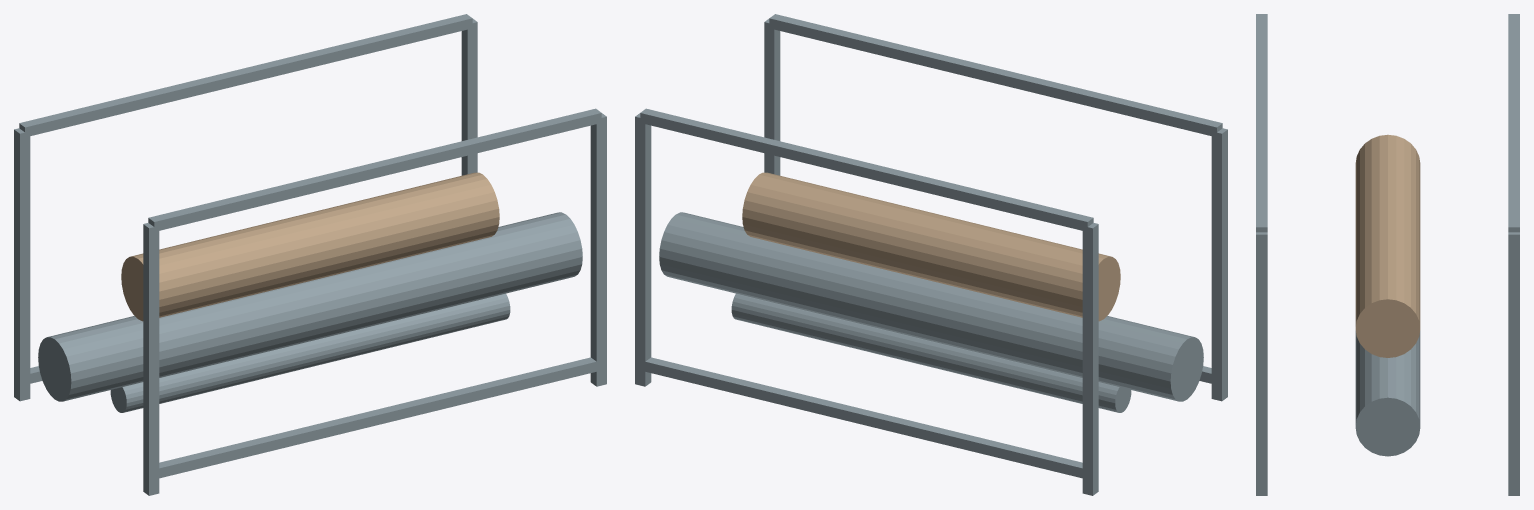
The model's file is finisher.glb.
3 renders of one model, left to right at view 1: azimuth 30°, elevation 25°; view 2: azimuth 150°, elevation 25°; view 3: azimuth 270°, elevation 25°, orthographic. The views are drawn at different scales.
Visible parts, largest first — view 1: roller_1, roller_3, roller_0, roller_4, roller_2, rotor, cross_-1.75_4, cross_1.75_4, cross_1.75_0.3, post_-3.5_-1.75, post_-3.5_1.75, post_3.5_1.75 (+1 smaller); view 2: roller_1, roller_3, roller_0, roller_4, roller_2, rotor, cross_1.75_4, cross_-1.75_4, cross_-1.75_0.3, post_-3.5_-1.75, post_-3.5_1.75, post_3.5_-1.75 (+1 smaller); view 3: roller_3, roller_4, roller_1, post_3.5_-1.75, post_3.5_1.75, cross_-1.75_4, cross_1.75_4.
Part boxes in pixels (box(x1,y1,x2,y2)): roller_1: box(121, 213, 333, 321); roller_3: box(296, 172, 499, 276); roller_0: box(38, 302, 250, 401); roller_4: box(397, 212, 582, 319); roller_2: box(224, 258, 416, 359); rotor: box(110, 293, 510, 412); cross_-1.75_4: box(19, 14, 472, 136); cross_1.75_4: box(148, 108, 601, 230); cross_1.75_0.3: box(154, 357, 596, 479); post_-3.5_-1.75: box(14, 128, 30, 401); post_-3.5_1.75: box(143, 223, 159, 495); post_3.5_1.75: box(590, 113, 606, 386); roller_1: box(908, 213, 1120, 321); roller_3: box(742, 172, 945, 276); roller_0: box(991, 302, 1203, 401); roller_4: box(659, 212, 843, 318); roller_2: box(825, 258, 1017, 359); rotor: box(731, 293, 1131, 412); cross_1.75_4: box(769, 14, 1222, 135); cross_-1.75_4: box(640, 108, 1093, 230); cross_-1.75_0.3: box(640, 357, 1082, 478); post_-3.5_-1.75: box(1082, 223, 1098, 495); post_-3.5_1.75: box(1211, 128, 1227, 401); post_3.5_-1.75: box(635, 113, 651, 386); roller_3: box(1355, 214, 1420, 357); roller_4: box(1355, 335, 1420, 456); roller_1: box(1355, 134, 1420, 240); post_3.5_-1.75: box(1508, 232, 1519, 495); post_3.5_1.75: box(1256, 232, 1267, 495); cross_-1.75_4: box(1508, 14, 1519, 232); cross_1.75_4: box(1256, 14, 1267, 232).
Size of the model in its own units: 8 by 4.08 by 3.66.
